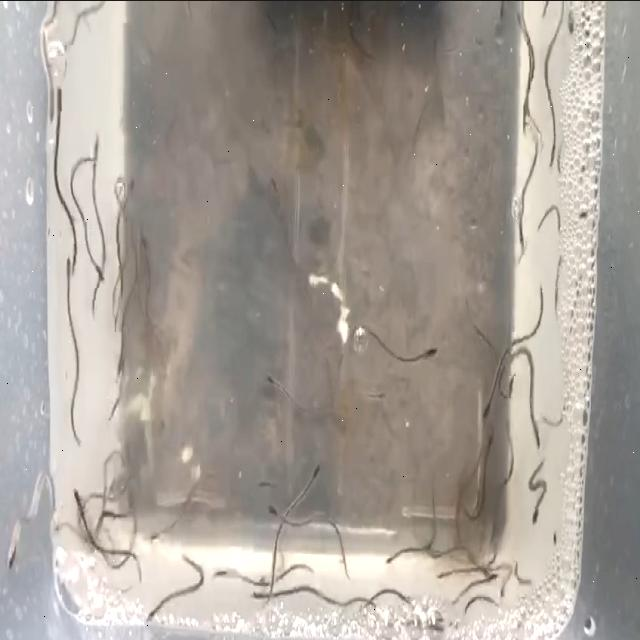inactive_glass_eel: (4, 510, 24, 581), (39, 60, 56, 124), (381, 536, 409, 574), (210, 552, 234, 592), (69, 476, 89, 524), (474, 426, 500, 462), (263, 164, 285, 204), (266, 372, 290, 408), (147, 510, 171, 544), (304, 459, 328, 492), (418, 334, 438, 372), (526, 415, 544, 457), (476, 384, 494, 426), (544, 134, 560, 180), (255, 464, 278, 496), (248, 584, 276, 610), (143, 593, 167, 623), (515, 224, 529, 274), (59, 247, 73, 297), (86, 249, 106, 283), (88, 132, 103, 176), (54, 77, 66, 129), (120, 174, 138, 208), (518, 94, 534, 132), (262, 501, 288, 524), (54, 514, 72, 547), (530, 491, 542, 540), (426, 610, 448, 636), (478, 568, 499, 595), (370, 376, 388, 404)
